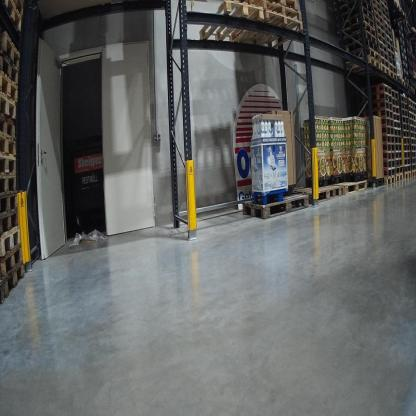pallet: (197, 1, 266, 42), (249, 8, 307, 56), (243, 187, 309, 221), (291, 184, 342, 211), (2, 266, 27, 302), (331, 20, 378, 39), (1, 242, 24, 279), (337, 28, 378, 48), (333, 10, 374, 30), (2, 30, 23, 68), (333, 180, 369, 201), (1, 222, 22, 258), (261, 2, 302, 20), (325, 6, 377, 20), (349, 108, 396, 123), (344, 54, 381, 73), (1, 51, 19, 89), (349, 98, 394, 113), (349, 91, 394, 106), (1, 69, 20, 104), (340, 38, 381, 53), (1, 114, 22, 143), (343, 46, 380, 62), (327, 2, 375, 13), (2, 211, 20, 240), (1, 192, 20, 218), (2, 95, 20, 120), (3, 0, 21, 25), (2, 150, 18, 176), (2, 132, 19, 156), (351, 84, 391, 94), (1, 174, 18, 196), (263, 1, 297, 10), (380, 125, 396, 139), (381, 150, 396, 164), (375, 16, 386, 34), (382, 174, 397, 186), (382, 165, 397, 177), (376, 30, 387, 46), (379, 44, 389, 61), (395, 9, 407, 23), (380, 63, 391, 78), (387, 3, 403, 13), (389, 66, 398, 83), (383, 160, 397, 170), (384, 24, 392, 41), (386, 38, 394, 55), (391, 103, 401, 116), (376, 26, 386, 39), (15, 2, 25, 15), (386, 33, 395, 47), (402, 171, 413, 182), (378, 38, 387, 51), (382, 12, 391, 25), (382, 144, 396, 152), (389, 51, 396, 67), (397, 75, 405, 89), (392, 144, 403, 154), (404, 163, 413, 175), (401, 114, 410, 126), (380, 55, 389, 67), (375, 8, 382, 23), (382, 136, 395, 144), (381, 7, 389, 20), (373, 6, 383, 16), (380, 119, 396, 125), (393, 118, 401, 130), (401, 106, 409, 118), (400, 100, 409, 110), (399, 93, 408, 103), (393, 174, 404, 182), (391, 96, 399, 107), (389, 47, 396, 59), (390, 64, 397, 76), (402, 129, 411, 138), (397, 165, 405, 175), (394, 136, 402, 145), (393, 151, 402, 159), (403, 151, 411, 160), (372, 1, 381, 9), (382, 3, 388, 14), (393, 112, 401, 120), (394, 127, 401, 136), (402, 138, 411, 145), (392, 89, 398, 99), (403, 145, 411, 152), (384, 24, 391, 32), (396, 159, 402, 168), (402, 123, 411, 129), (406, 83, 412, 92), (382, 1, 389, 8), (403, 159, 411, 165), (411, 87, 416, 94), (412, 71, 415, 78)
